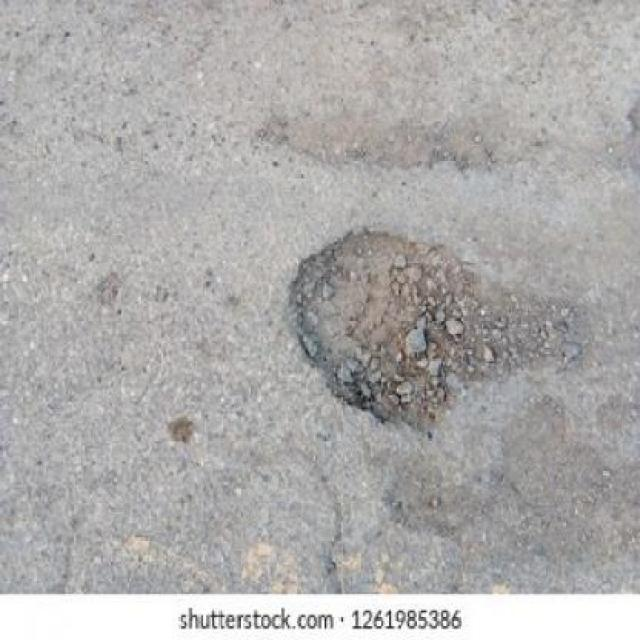Pothole: (286, 221, 572, 434)
